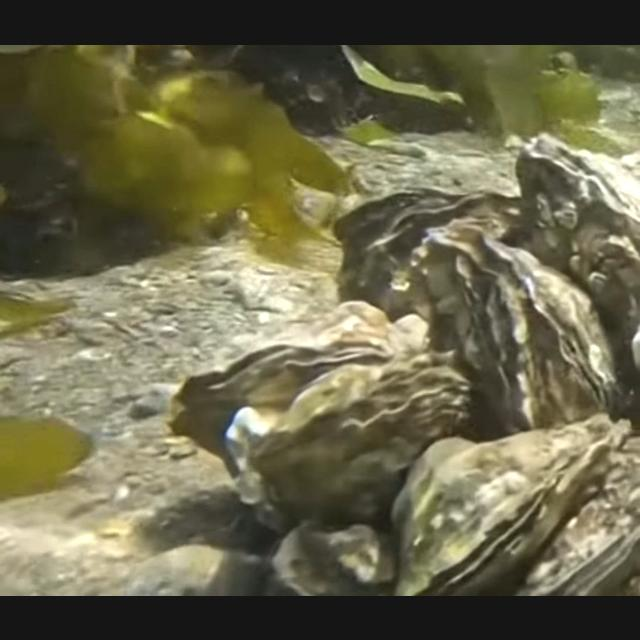Oyster-Closed: (223, 346, 469, 514), (449, 230, 619, 424)
Oyster-Open: (397, 410, 631, 596), (168, 334, 390, 474), (332, 186, 524, 320), (504, 133, 640, 321), (517, 488, 640, 595)
